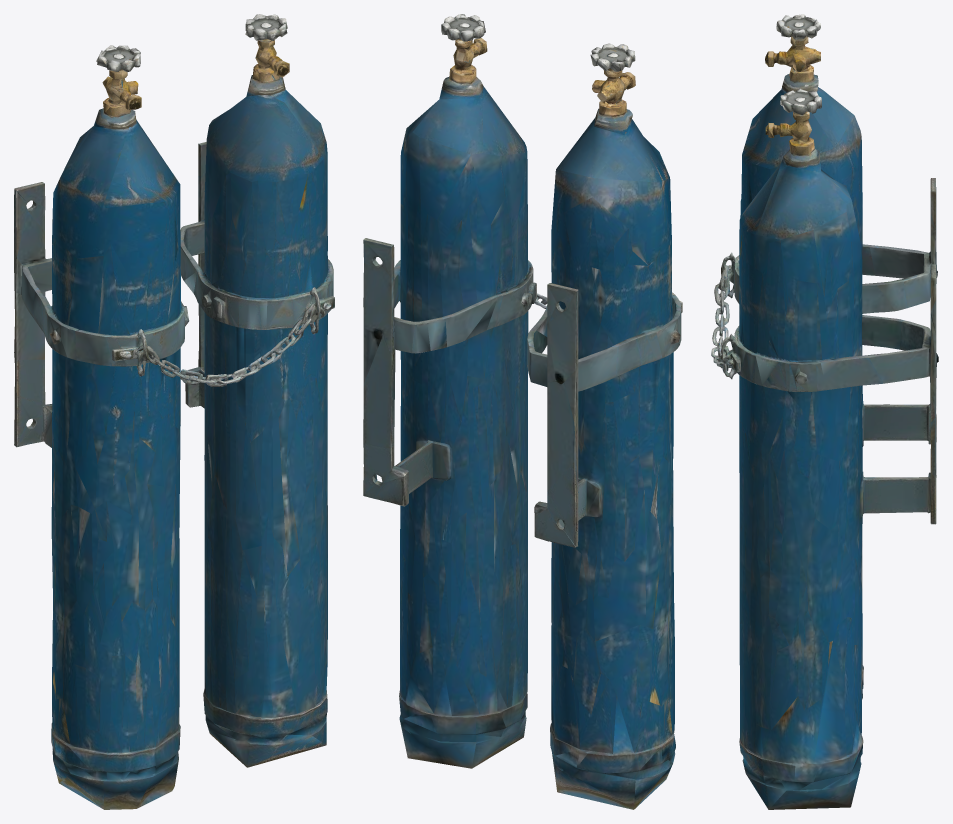
File: oxygen_bottles.glb
3 views of the same model, side by side, from view 1: azimuth 30°, elevation 25°; view 2: azimuth 150°, elevation 25°; view 3: azimuth 270°, elevation 25° (orthographic). The views are drawn at different scales.
Parts seen in each view (by area): view 1: oxygen_bottles; view 2: oxygen_bottles; view 3: oxygen_bottles.
Boxes of the visible parts, <box> form: oxygen_bottles: <box>14,14,334,809</box>; oxygen_bottles: <box>363,14,682,809</box>; oxygen_bottles: <box>711,14,938,809</box>.
Bounding box in the file's own units: 0.6326 × 1.6 × 0.4672.
1 material, 1 textured.
